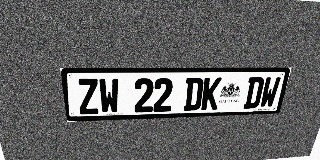2: (153, 78, 173, 112), (135, 78, 154, 112)
D: (243, 77, 265, 109), (183, 78, 204, 111)
K: (201, 77, 222, 110)
W: (98, 78, 120, 114), (259, 77, 281, 108)
Z: (76, 78, 100, 114)
